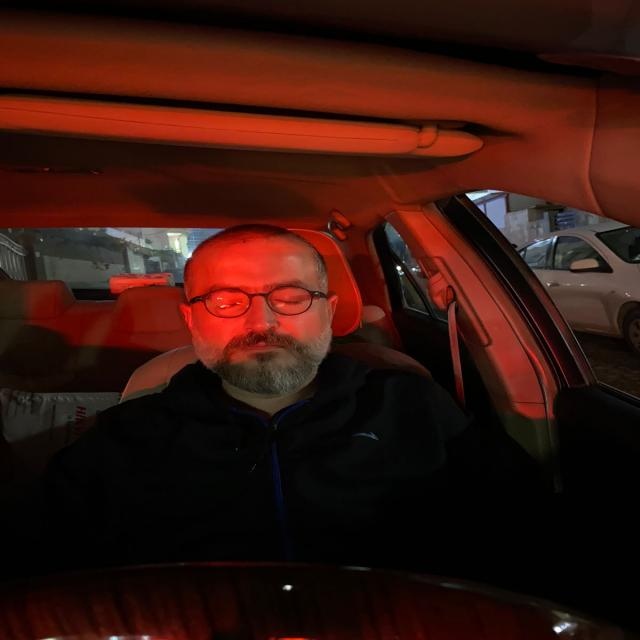drowsy: (174, 231, 340, 398)
